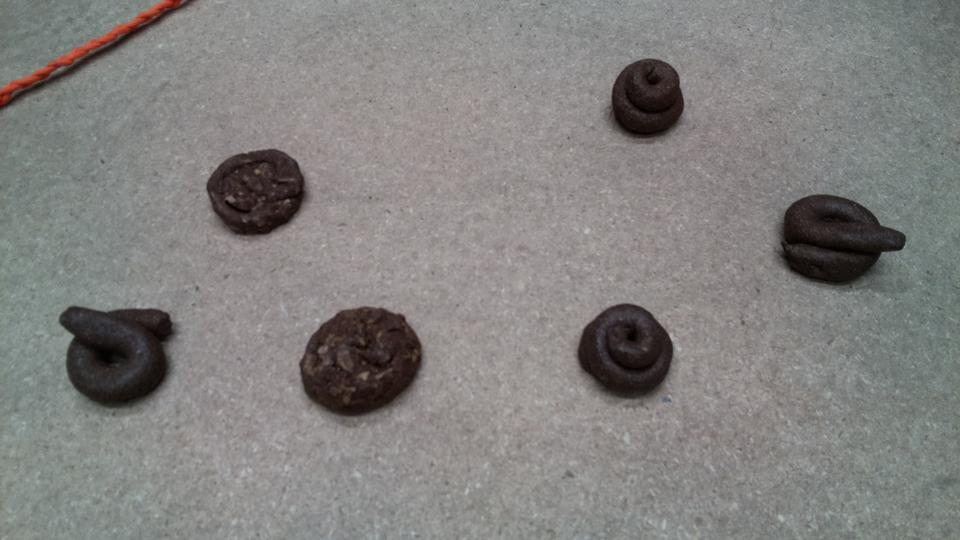poop: (296, 301, 428, 420), (56, 300, 179, 411), (774, 189, 910, 289), (576, 299, 678, 401), (203, 146, 307, 238), (610, 56, 688, 141)
rope: (1, 1, 173, 99)
